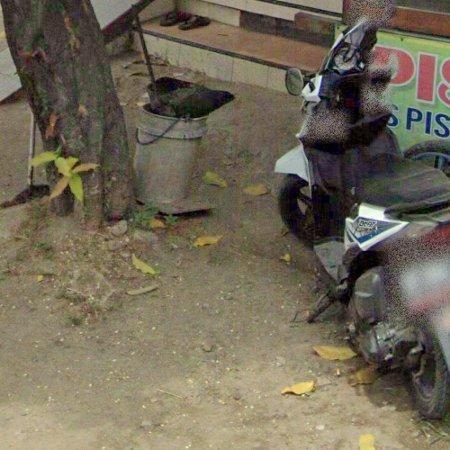motorcycles: (276, 0, 450, 415)
